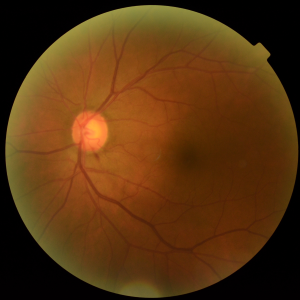cataract: (41, 84, 237, 203)
